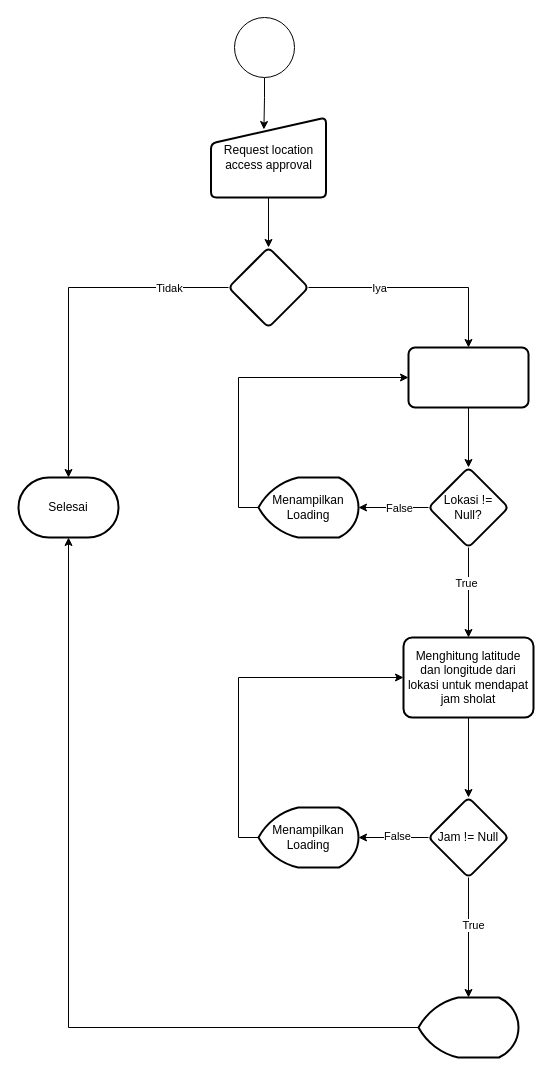
Some shapes in this 551 by 1076 pixel diagram are drawn without their labels. The centre of each missing label's shape, as x and y in pixels:
Menampilkan hasil: the point at 468,1027
Mengambil lokasi secara latitude dan longitude: the point at 468,377
Mulai: the point at 264,47
Setuju?: the point at 268,287
